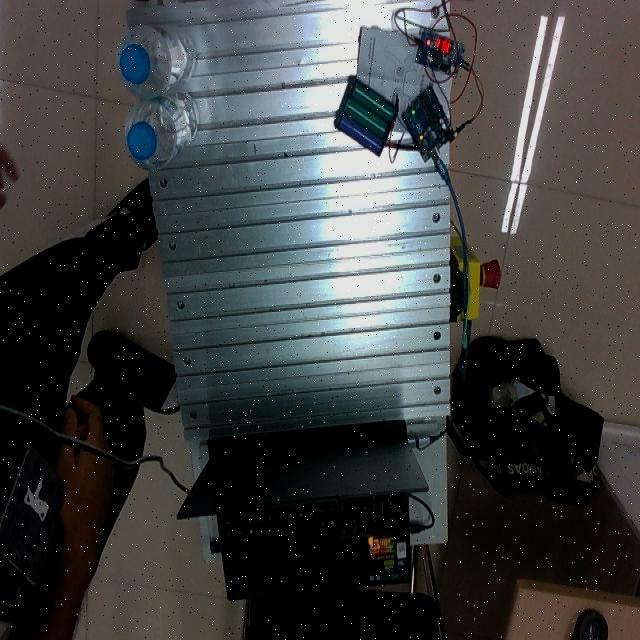lavie: (124, 92, 199, 171), (118, 24, 195, 99)
